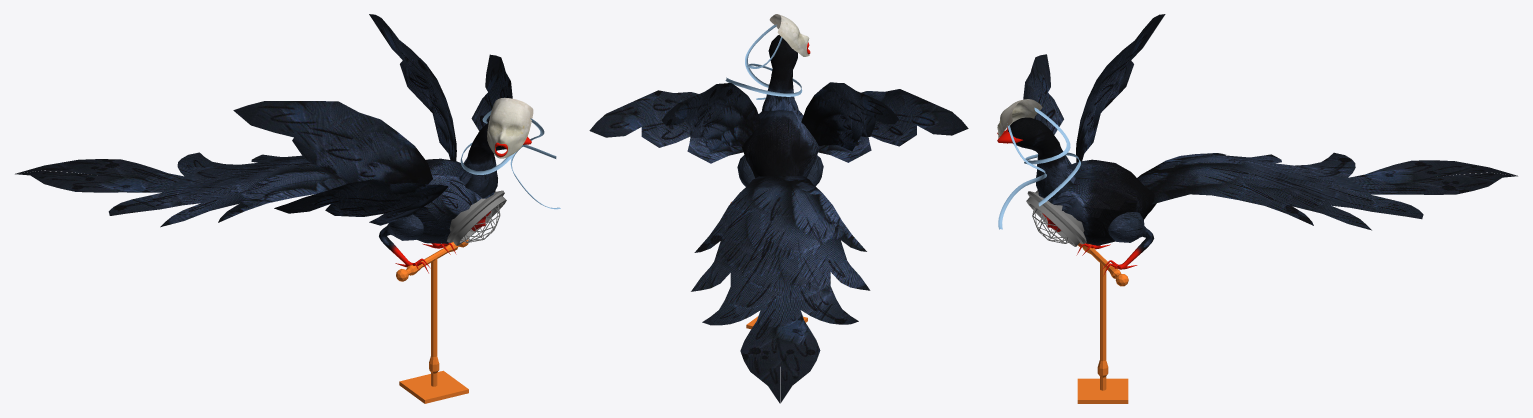
The model's file is 1772751080881_bird.glb.
3 views of the same model, side by side, from view 1: azimuth 30°, elevation 25°; view 2: azimuth 150°, elevation 25°; view 3: azimuth 270°, elevation 25° (orthographic). The views are drawn at different scales.
Parts seen in each view (by area): view 1: Grid.004, Sphere, Object_4.002, BezierCurve.002, Circle, Cube, Sphere.001, Cylinder, BezierCurve.003; view 2: Grid.004, Sphere, BezierCurve.002, Object_4.002, BezierCurve.003; view 3: Grid.004, Sphere, BezierCurve.002, Sphere.002, Circle, Cube, Cylinder, Object_4.002, BezierCurve.003, BezierCurve.004.
Part boxes in pixels (bbox=[...]): Grid.004: bbox=[15, 14, 512, 227]; Sphere: bbox=[413, 158, 495, 243]; Object_4.002: bbox=[487, 97, 533, 158]; BezierCurve.002: bbox=[457, 122, 506, 198]; Circle: bbox=[447, 190, 506, 245]; Cube: bbox=[399, 370, 468, 403]; Sphere.001: bbox=[379, 214, 430, 273]; Cylinder: bbox=[429, 258, 439, 386]; BezierCurve.003: bbox=[460, 110, 556, 174]; Grid.004: bbox=[589, 82, 968, 403]; Sphere: bbox=[742, 109, 820, 178]; BezierCurve.002: bbox=[762, 35, 798, 111]; Object_4.002: bbox=[769, 14, 809, 56]; BezierCurve.003: bbox=[725, 37, 802, 96]; Grid.004: bbox=[1023, 14, 1517, 230]; Sphere: bbox=[1038, 159, 1156, 245]; BezierCurve.002: bbox=[1008, 117, 1076, 200]; Sphere.002: bbox=[1102, 212, 1154, 275]; Circle: bbox=[1026, 190, 1086, 246]; Cube: bbox=[1077, 378, 1128, 403]; Cylinder: bbox=[1097, 262, 1108, 390]; Object_4.002: bbox=[997, 99, 1042, 138]; BezierCurve.003: bbox=[1024, 107, 1080, 206]; BezierCurve.004: bbox=[998, 123, 1046, 229].
Bounding box in the file's own units: 2.14 × 1.83 × 2.78.
10 materials, 6 textured.
